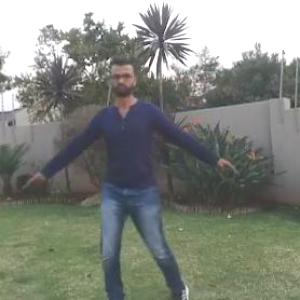land: (69, 78, 209, 250)
